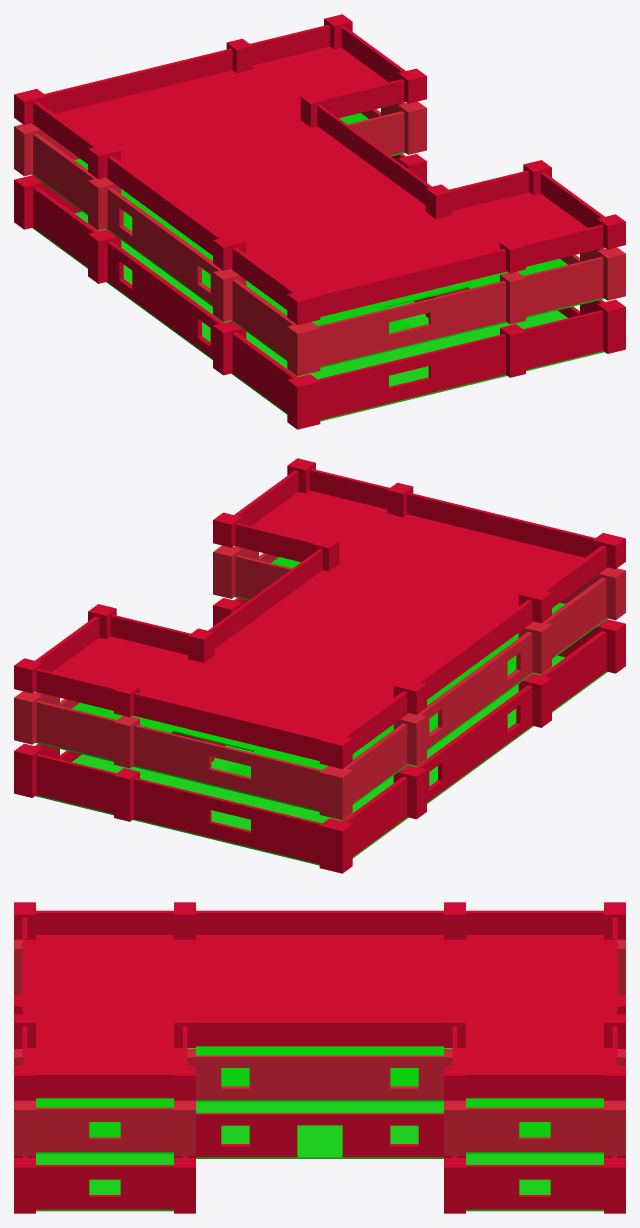
File: building1.fbx
3 views of the same model, one above another, from view 1: azimuth 30°, elevation 25°; view 2: azimuth 150°, elevation 25°; view 3: azimuth 270°, elevation 25° (orthographic). The views are drawn at different scales.
Visible parts, largest first — view 1: Roof, firstFloor, GroundFloor; view 2: Roof, firstFloor, GroundFloor; view 3: Roof, GroundFloor, firstFloor.
Boxes of the visible parts, x1,y1,x2,y2 form: Roof: [14, 14, 625, 324]; firstFloor: [14, 101, 625, 376]; GroundFloor: [14, 154, 625, 429]; Roof: [14, 458, 625, 768]; firstFloor: [14, 545, 625, 820]; GroundFloor: [14, 598, 625, 873]; Roof: [14, 902, 625, 1100]; GroundFloor: [14, 995, 625, 1213]; firstFloor: [14, 939, 625, 1155].
Bounding box in the file's own units: 9959 × 3745 × 14886.
